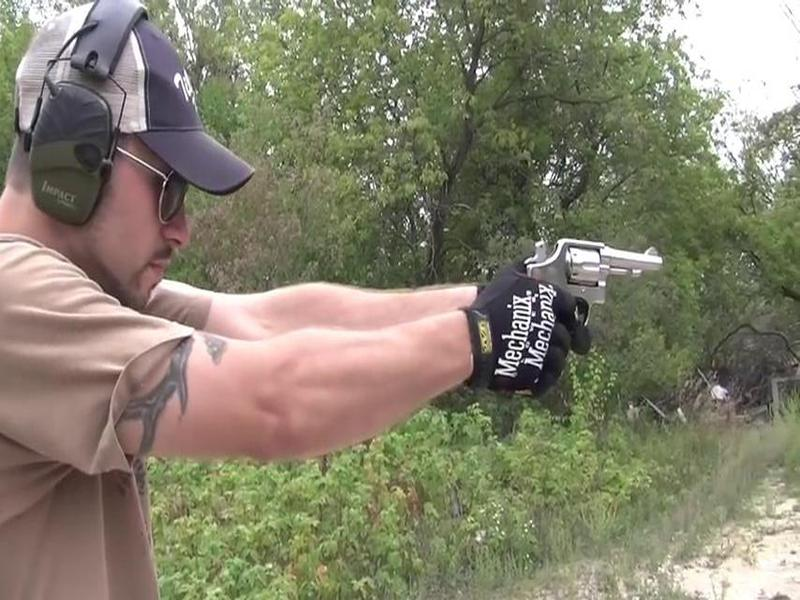Revolver: (517, 224, 676, 350)
